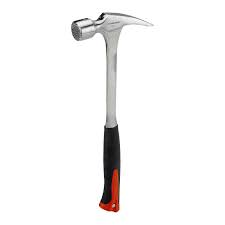hammer: (71, 11, 155, 212)
